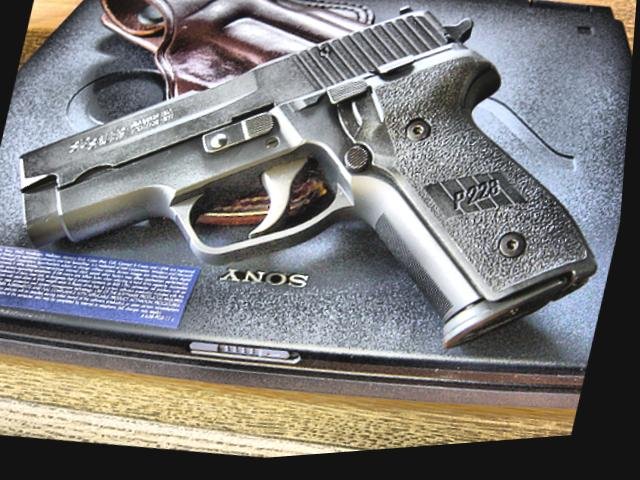pistol: (0, 0, 640, 403)
